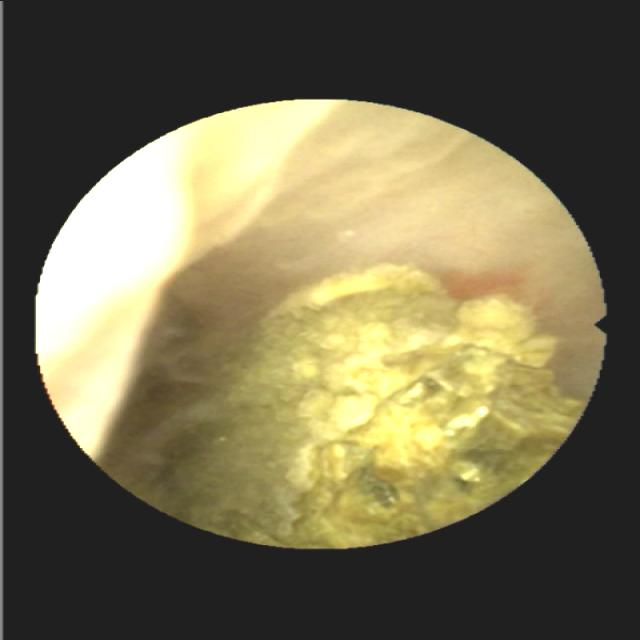stone: (168, 271, 572, 545)
tissue: (55, 107, 595, 456)
